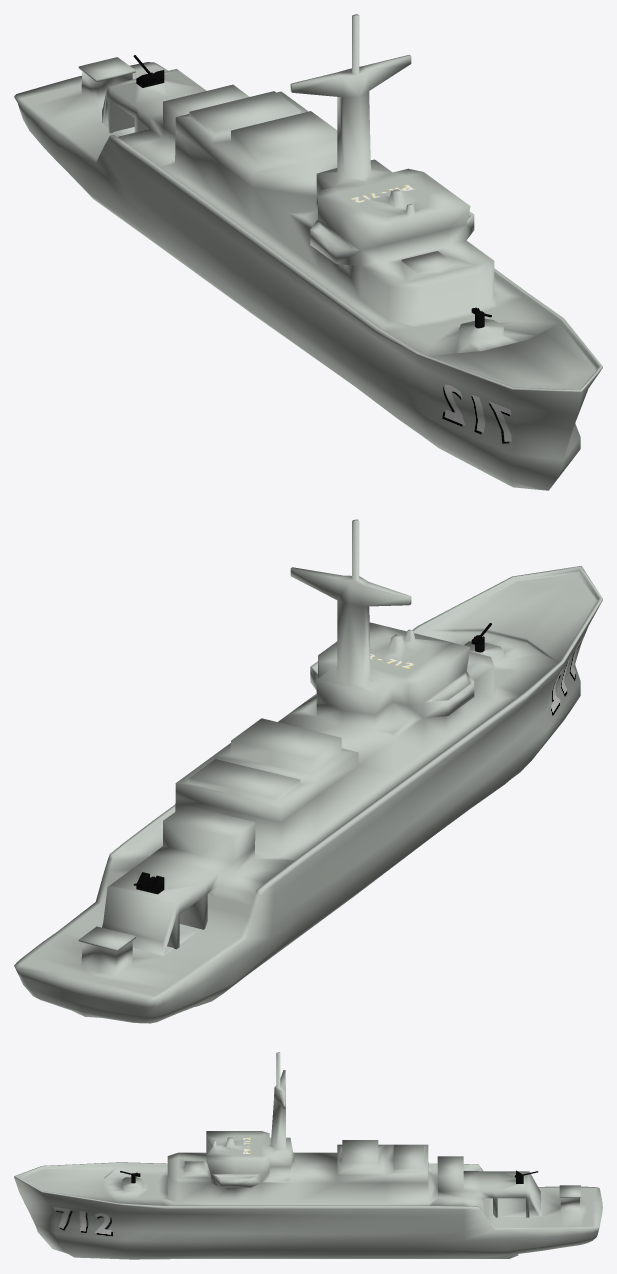
The model's file is KRI_PR.fbx.
3 renders of one model, top to bottom at view 1: azimuth 30°, elevation 25°; view 2: azimuth 150°, elevation 25°; view 3: azimuth 270°, elevation 25°, orthographic. The views are drawn at different scales.
Visible parts, largest first — view 1: Plane_002; view 2: Plane_002; view 3: Plane_002.
Boxes of the visible parts, <box> form: Plane_002: <box>14,14,602,490</box>; Plane_002: <box>14,519,602,1023</box>; Plane_002: <box>14,1052,602,1259</box>.
Bounding box in the file's own units: 9 × 19.54 × 51.44.
